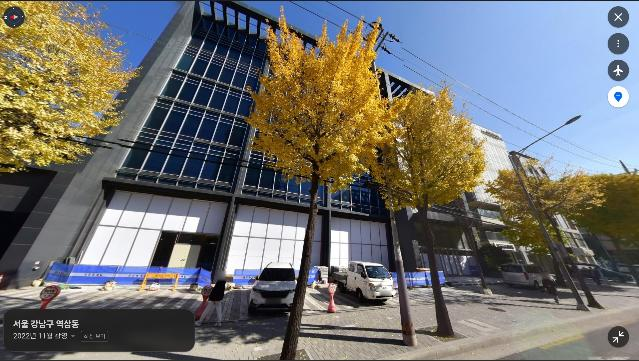ginkgo: (245, 4, 408, 361), (373, 78, 489, 339), (0, 0, 144, 175), (481, 160, 606, 309), (565, 169, 639, 286)
